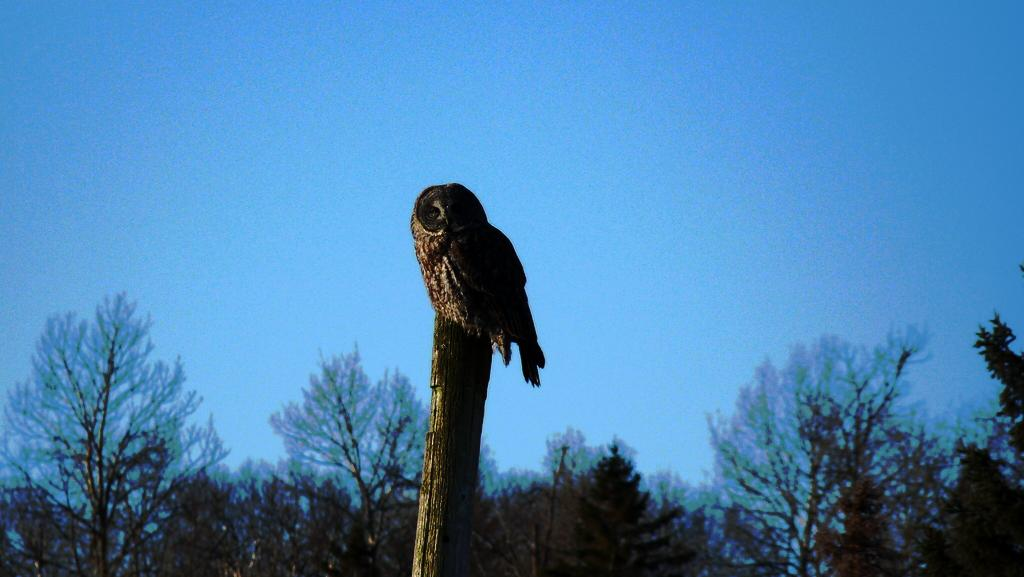Owl: (410, 182, 548, 388)
